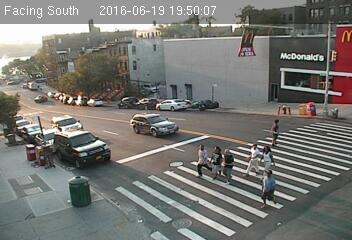neg: (62, 77, 95, 122), (105, 102, 130, 136), (309, 93, 334, 125), (141, 30, 164, 61), (201, 97, 220, 122), (28, 132, 47, 157), (165, 99, 182, 122), (279, 93, 295, 113)
pos: (253, 168, 284, 209), (182, 140, 210, 178), (220, 148, 247, 184), (235, 142, 260, 176), (267, 118, 289, 147)
